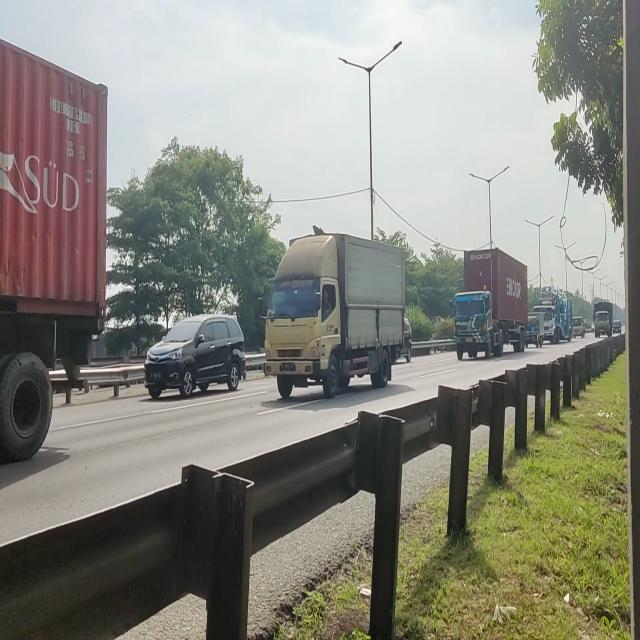Golongan I: (140, 305, 250, 402)
Golongan II: (259, 232, 407, 402)
